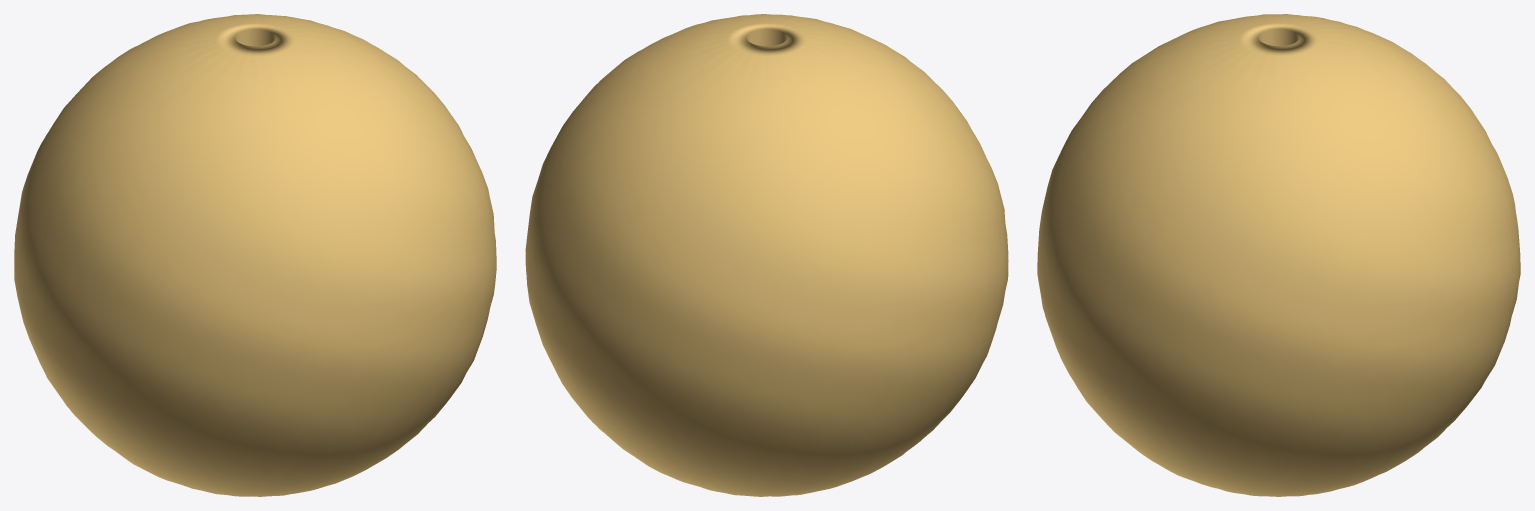
The model's file is spacer-02-gold-12mm.glb.
3 views of the same model, side by side, from view 1: azimuth 30°, elevation 25°; view 2: azimuth 150°, elevation 25°; view 3: azimuth 270°, elevation 25° (orthographic).
Visible parts, largest first — view 1: Spacer with through bore.002; view 2: Spacer with through bore.002; view 3: Spacer with through bore.002.
Part boxes in pixels (x1=…): Spacer with through bore.002: x1=14, y1=14, x2=496, y2=496; Spacer with through bore.002: x1=525, y1=14, x2=1008, y2=496; Spacer with through bore.002: x1=1037, y1=14, x2=1520, y2=496.
Size of the model in its own units: 0.012 by 0.0119 by 0.012.
